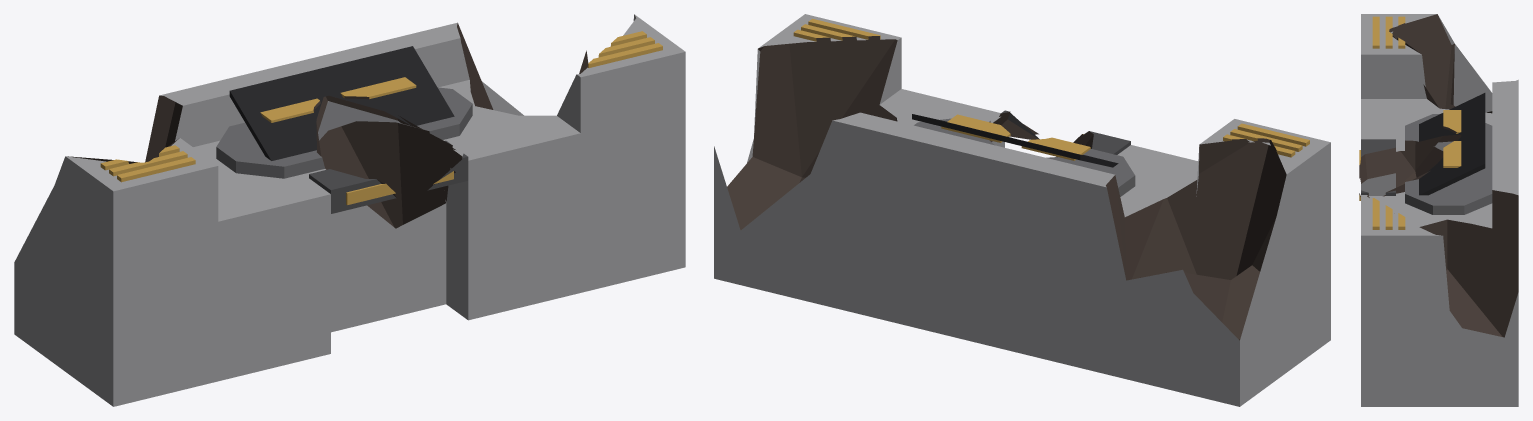
The model's file is vge_d_engineeringconsole.obj.
3 renders of one model, left to right at view 1: azimuth 30°, elevation 25°; view 2: azimuth 150°, elevation 25°; view 3: azimuth 270°, elevation 25°, orthographic. The views are drawn at different scales.
Parts seen in each view (by area): view 1: vge_d_engineeringconsole; view 2: vge_d_engineeringconsole; view 3: vge_d_engineeringconsole.
Part boxes in pixels (x1,y1,x2,y2): vge_d_engineeringconsole: (14,14,685,406); vge_d_engineeringconsole: (714,14,1330,406); vge_d_engineeringconsole: (1359,14,1518,406).
Size of the model in its own units: 3 by 1.1 by 0.91.
